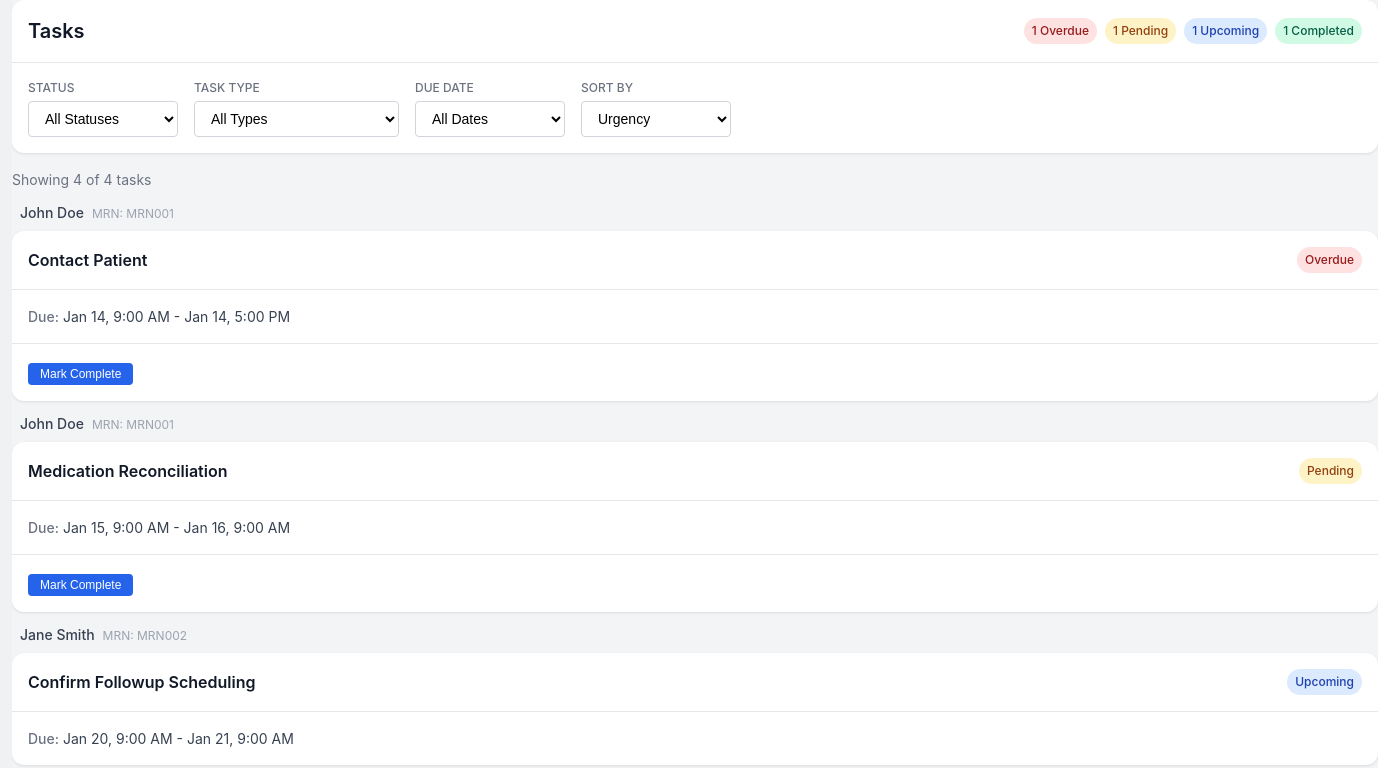
Test: TaskListView › filters › clears filters when clear button is clicked
This screenshot has width=1378, height=768.
Select "Pending" in the dropdown labelled "Status". click: (103, 119)
box: top-left (28, 101), bottom-right (178, 137)
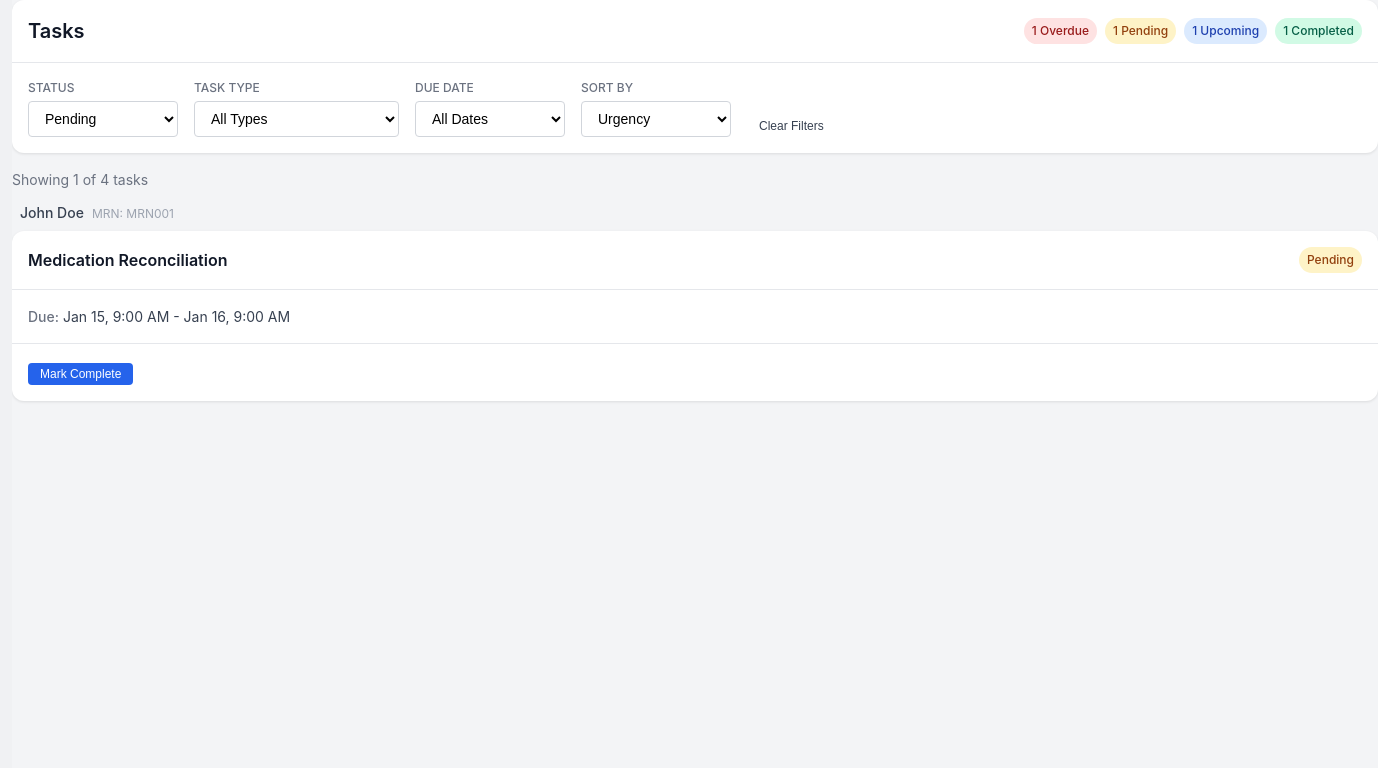
Now the text "Showing 1 of 4 tasks" is shown, box top-left (12, 171), bottom-right (148, 188)
Click the button "Clear Filters". click: (791, 126)
box: top-left (747, 115), bottom-right (836, 137)
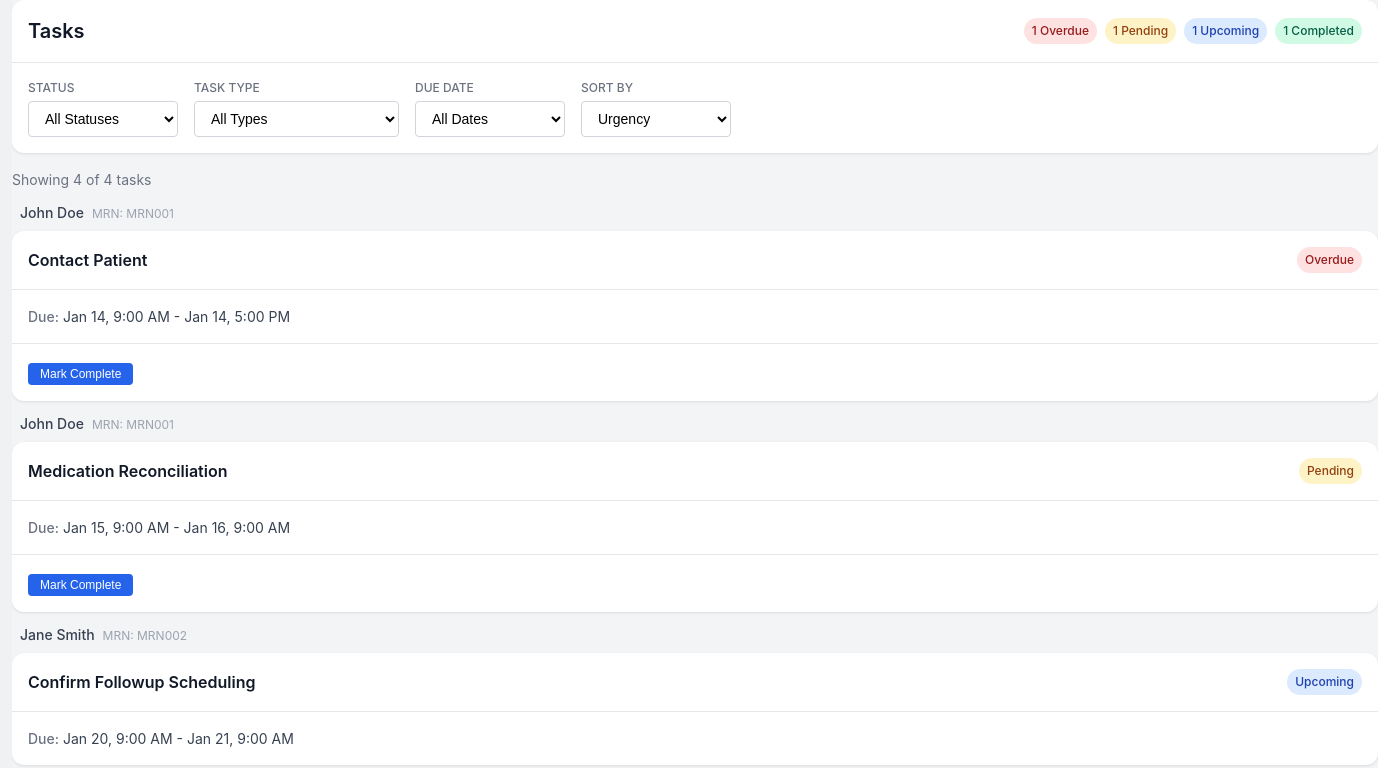
Now the text "Showing 4 of 4 tasks" is shown, box top-left (12, 171), bottom-right (152, 188)
